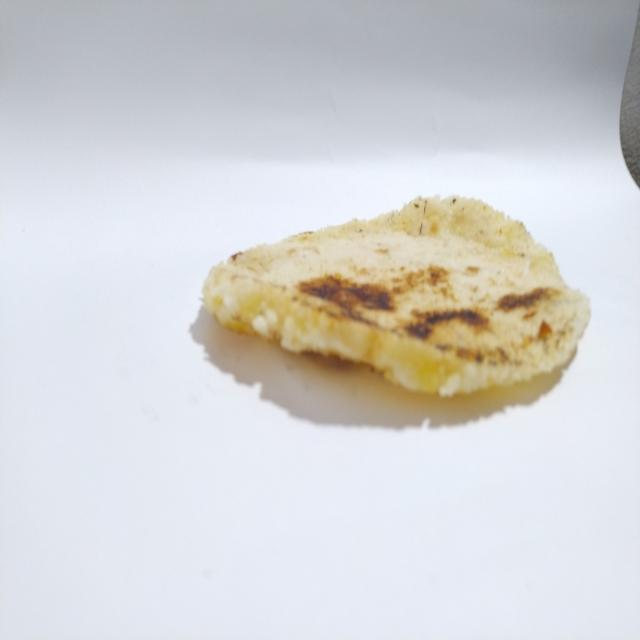Food: (189, 179, 597, 416)
